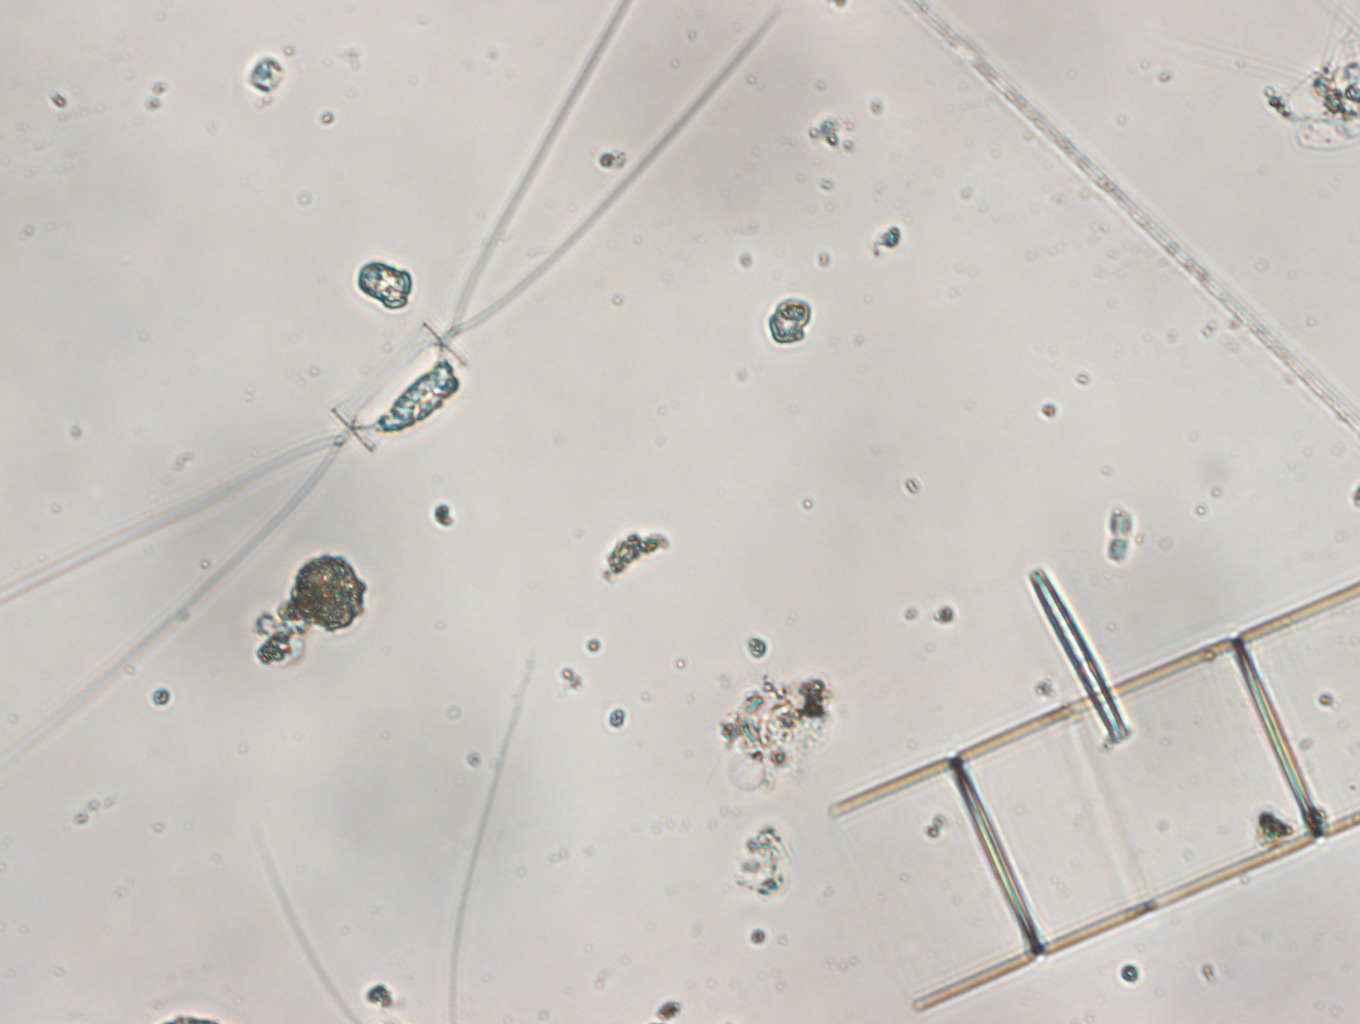chaetoceros: (8, 1, 777, 753)
guinardia flaccida: (840, 593, 1360, 1018)
